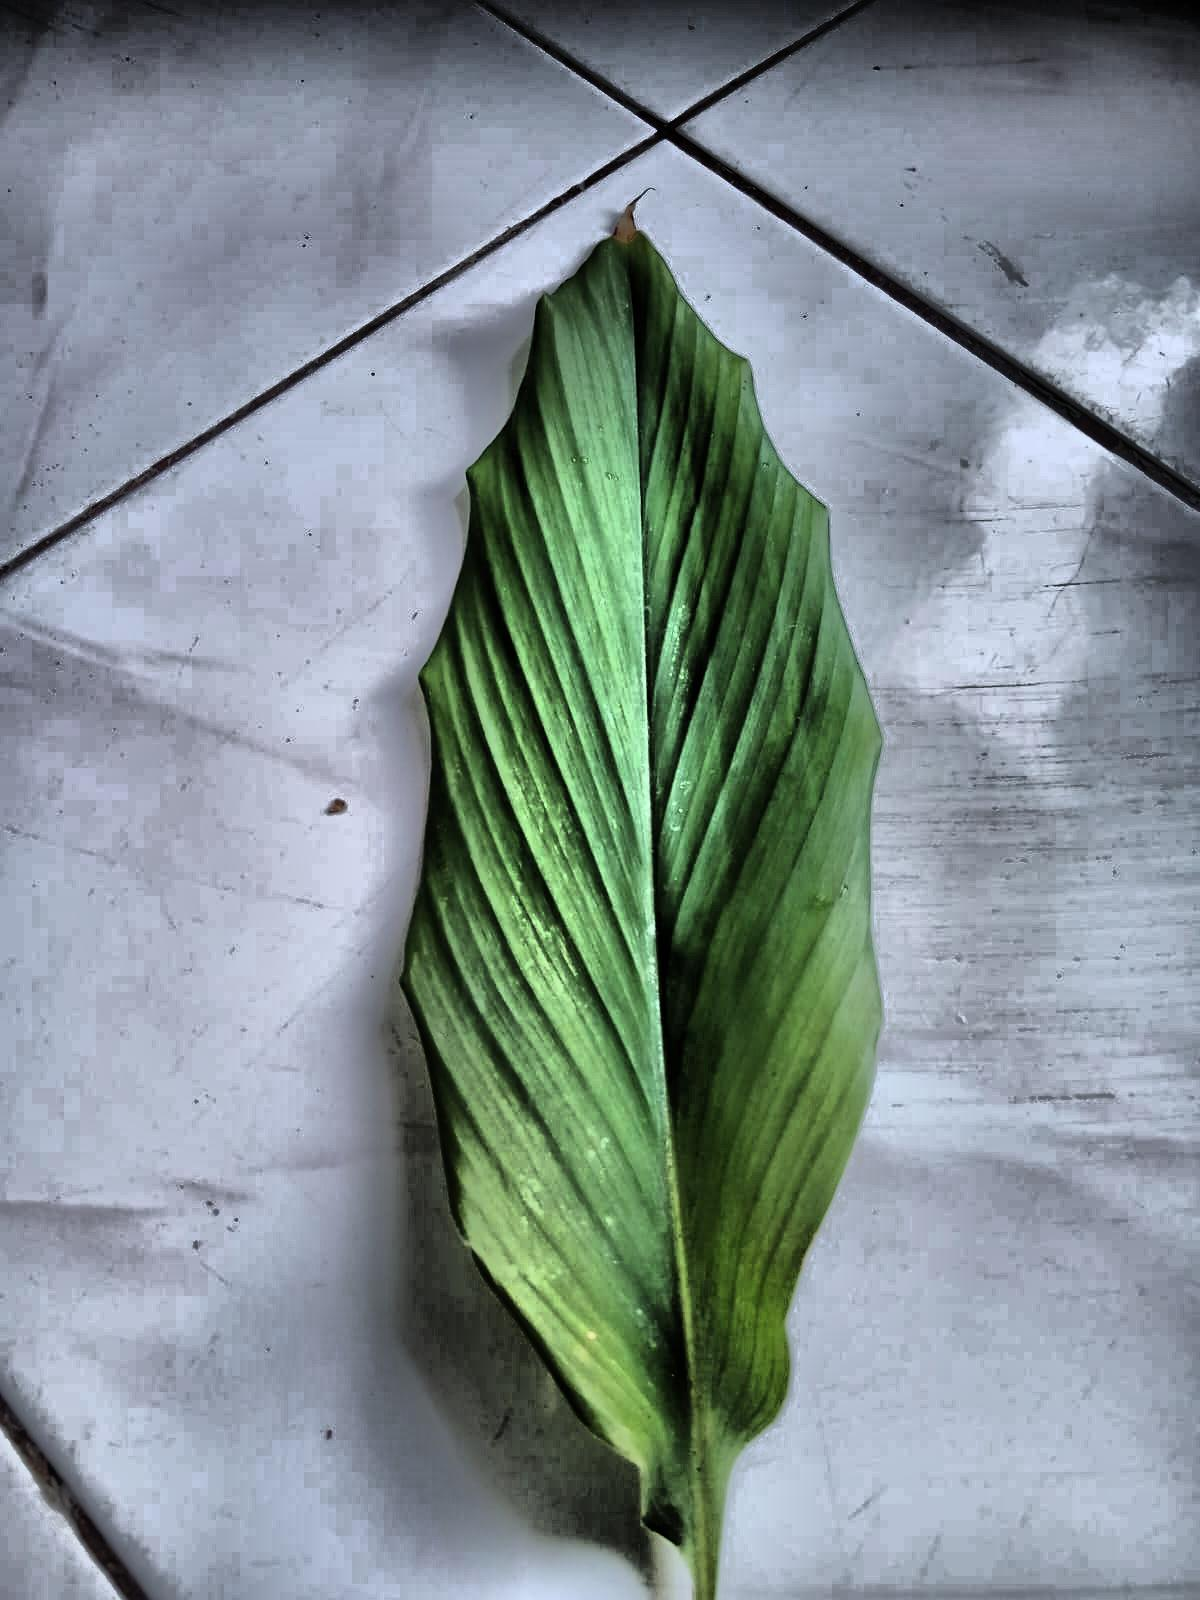daun kunyit: (403, 215, 881, 1599)
